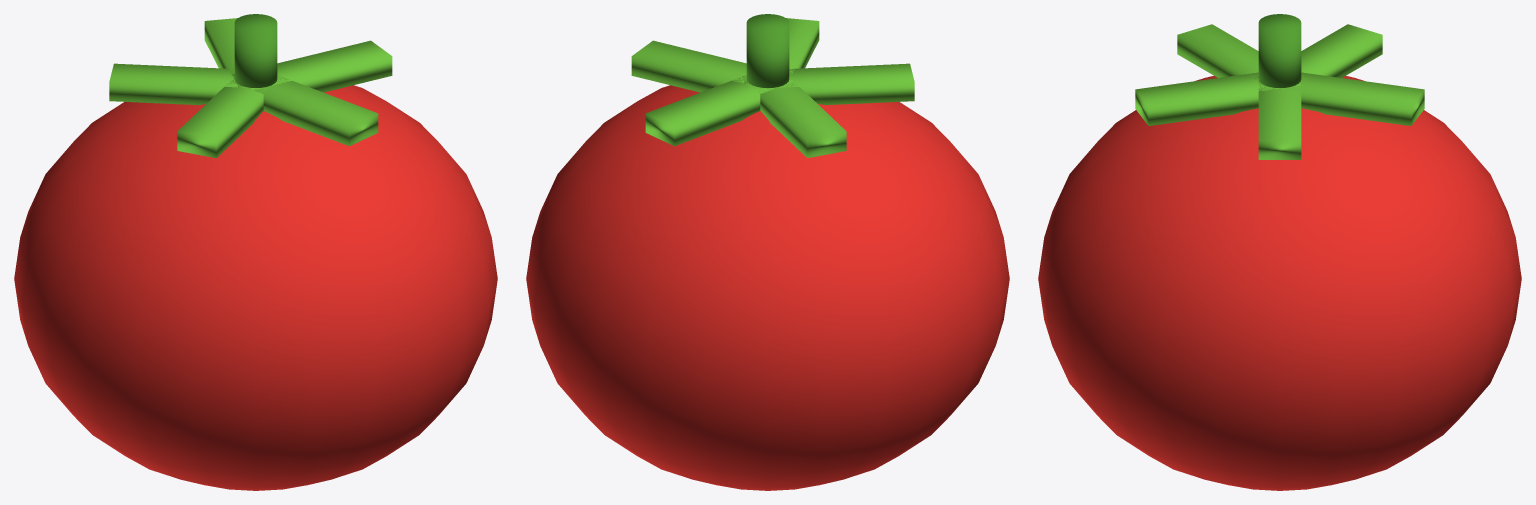
Rendered from tomato.glb.
3 renders of one model, left to right at view 1: azimuth 30°, elevation 25°; view 2: azimuth 150°, elevation 25°; view 3: azimuth 270°, elevation 25°, orthographic.
Visible parts, largest first — view 1: Tomato; view 2: Tomato; view 3: Tomato.
Part boxes in pixels (x1,y1,x2,y2): Tomato: (14, 14, 497, 490); Tomato: (526, 14, 1009, 490); Tomato: (1038, 14, 1521, 490).
Size of the model in its own units: 0.9 by 0.9075 by 0.9.
